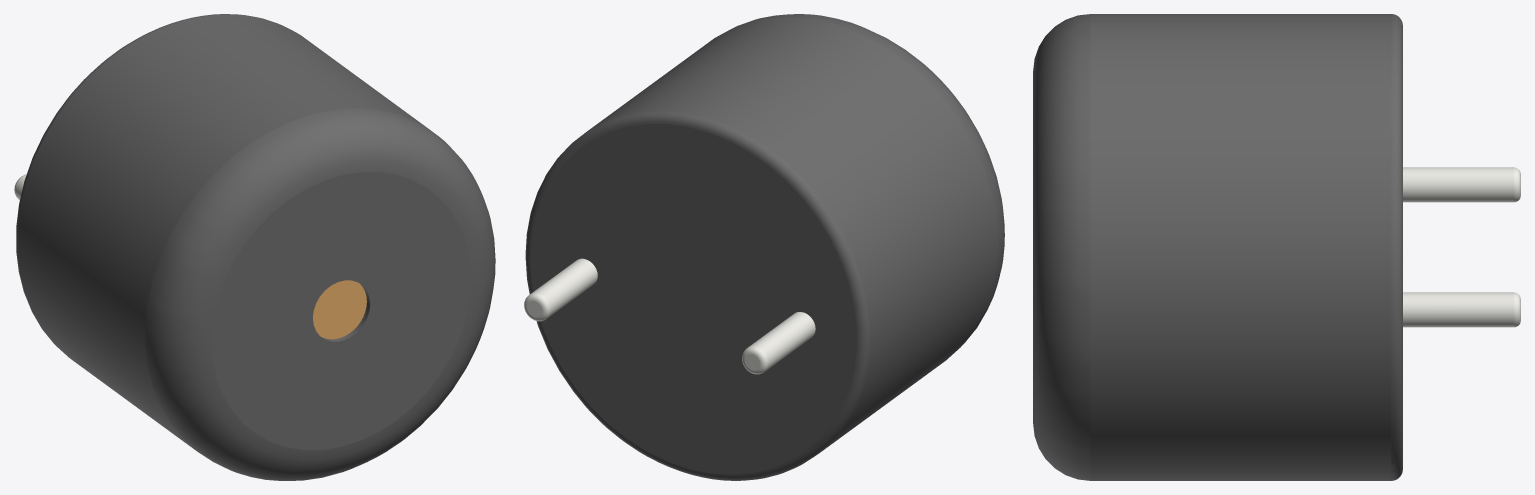
The model's file is Buzzer_12x9.5RM7.6.glb.
The picture shows the model from 3 angles, left to right: view 1: azimuth 30°, elevation 25°; view 2: azimuth 150°, elevation 25°; view 3: azimuth 270°, elevation 25°; orthographic projection. The views are drawn at different scales.
Visible parts, largest first — view 1: Shape_IndexedFaceSet, Shape_IndexedFaceSet.004, Shape_IndexedFaceSet.002, Shape_IndexedFaceSet.010, Shape_IndexedFaceSet.001; view 2: Shape_IndexedFaceSet.003, Shape_IndexedFaceSet, Shape_IndexedFaceSet.001, Shape_IndexedFaceSet.002, Shape_IndexedFaceSet.006, Shape_IndexedFaceSet.005; view 3: Shape_IndexedFaceSet, Shape_IndexedFaceSet.002, Shape_IndexedFaceSet.001, Shape_IndexedFaceSet.005, Shape_IndexedFaceSet.006.
Part boxes in pixels (x1=…): Shape_IndexedFaceSet: x1=17, y1=14, x2=427, y2=450; Shape_IndexedFaceSet.004: x1=212, y1=172, x2=470, y2=449; Shape_IndexedFaceSet.002: x1=145, y1=108, x2=495, y2=480; Shape_IndexedFaceSet.010: x1=313, y1=280, x2=366, y2=339; Shape_IndexedFaceSet.001: x1=16, y1=14, x2=297, y2=343; Shape_IndexedFaceSet.003: x1=530, y1=124, x2=856, y2=474; Shape_IndexedFaceSet: x1=588, y1=17, x2=998, y2=452; Shape_IndexedFaceSet.001: x1=525, y1=110, x2=870, y2=480; Shape_IndexedFaceSet.002: x1=734, y1=14, x2=1004, y2=345; Shape_IndexedFaceSet.006: x1=531, y1=258, x2=597, y2=317; Shape_IndexedFaceSet.005: x1=749, y1=312, x2=815, y2=370; Shape_IndexedFaceSet: x1=1090, y1=14, x2=1391, y2=480; Shape_IndexedFaceSet.002: x1=1033, y1=14, x2=1090, y2=480; Shape_IndexedFaceSet.001: x1=1391, y1=14, x2=1402, y2=480; Shape_IndexedFaceSet.005: x1=1403, y1=167, x2=1513, y2=202; Shape_IndexedFaceSet.006: x1=1403, y1=292, x2=1513, y2=327.
Bounding box in the file's own units: 4.72 × 4.72 × 4.93.
